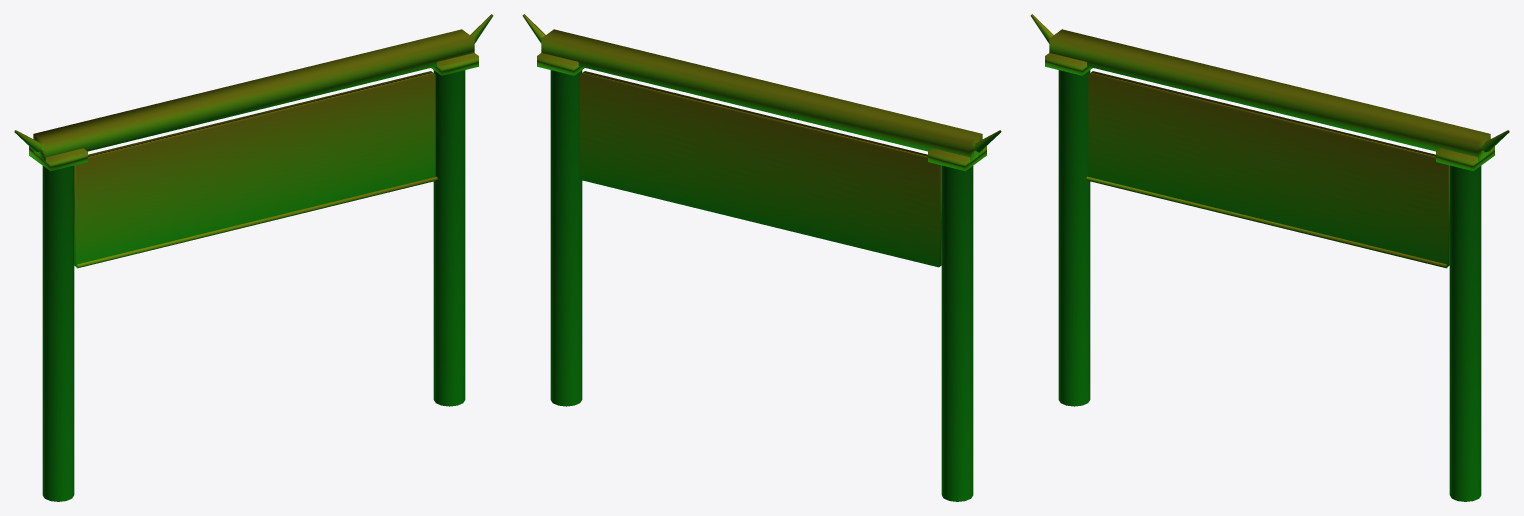
Rendered from court_water_gate.glb.
The picture shows the model from 3 angles, left to right: view 1: azimuth 30°, elevation 25°; view 2: azimuth 150°, elevation 25°; view 3: azimuth 330°, elevation 25°; orthographic projection.
Parts seen in each view (by area): view 1: court_water_gate; view 2: court_water_gate; view 3: court_water_gate.
Boxes of the visible parts, left/top/right/bottom form: court_water_gate: left=14, top=14, right=493, bottom=501; court_water_gate: left=522, top=14, right=1001, bottom=501; court_water_gate: left=1030, top=14, right=1509, bottom=501.
Size of what is drawn, in the model's own units: 12.24 by 9.17 by 0.9577.
